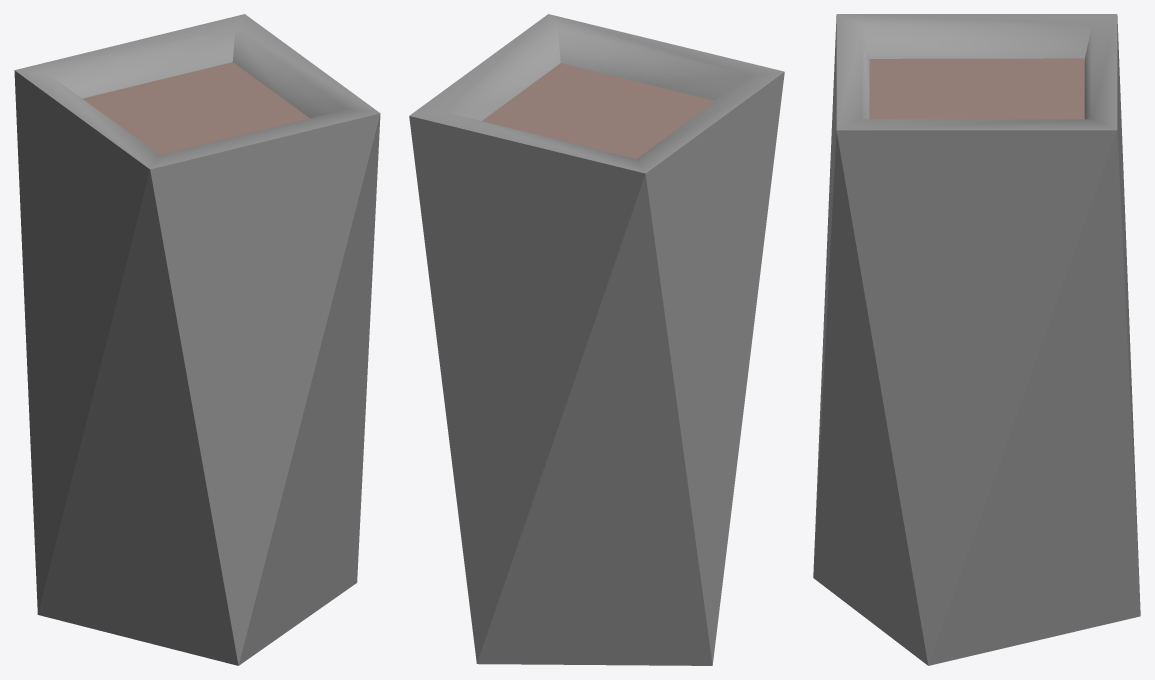
Rendered from flowerpot_010.fbx.
3 renders of one model, left to right at view 1: azimuth 30°, elevation 25°; view 2: azimuth 150°, elevation 25°; view 3: azimuth 270°, elevation 25°, orthographic. The views are drawn at different scales.
Visible parts, largest first — view 1: flowerpot_010; view 2: flowerpot_010; view 3: flowerpot_010.
Boxes of the visible parts, bbox=[...] form: flowerpot_010: bbox=[14, 14, 380, 665]; flowerpot_010: bbox=[409, 14, 784, 665]; flowerpot_010: bbox=[813, 14, 1140, 665].
Size of the model in its own units: 34.45 by 34.65 by 61.28.
